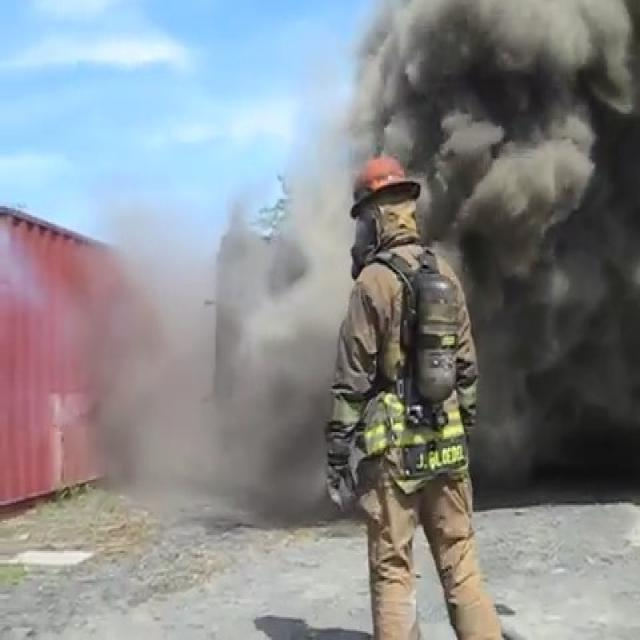Smoke: (473, 9, 640, 467)
